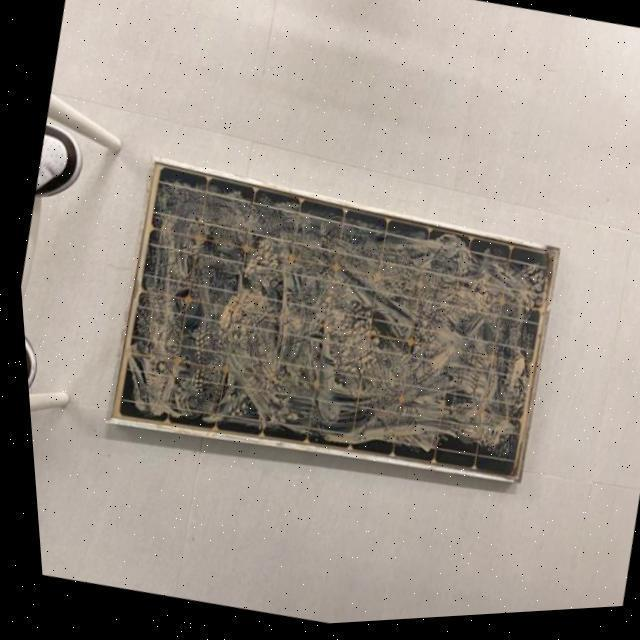Anomaly Solar Panel: (103, 158, 555, 487)
Surface Contaminant: (104, 157, 556, 487)
